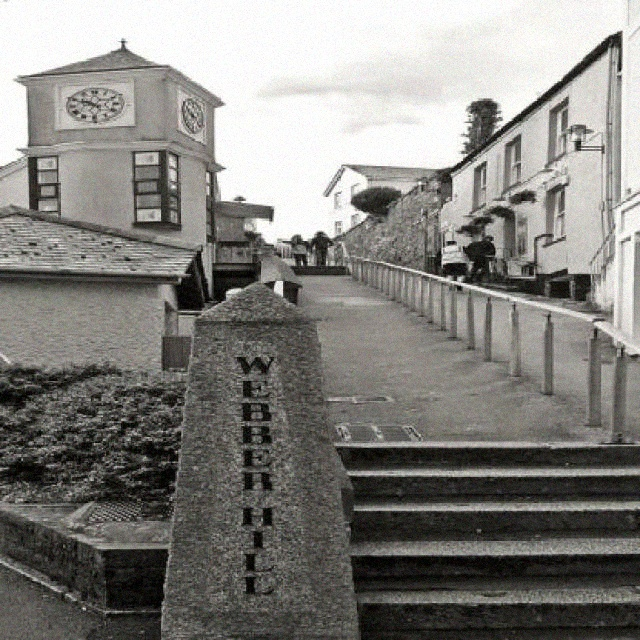stair: (338, 441, 639, 640)
